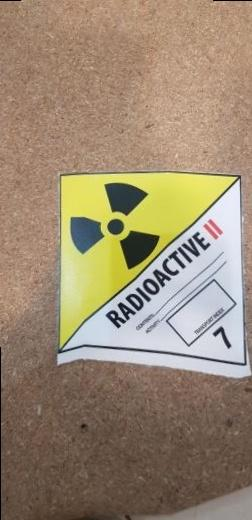radioactive: (59, 174, 244, 377)
